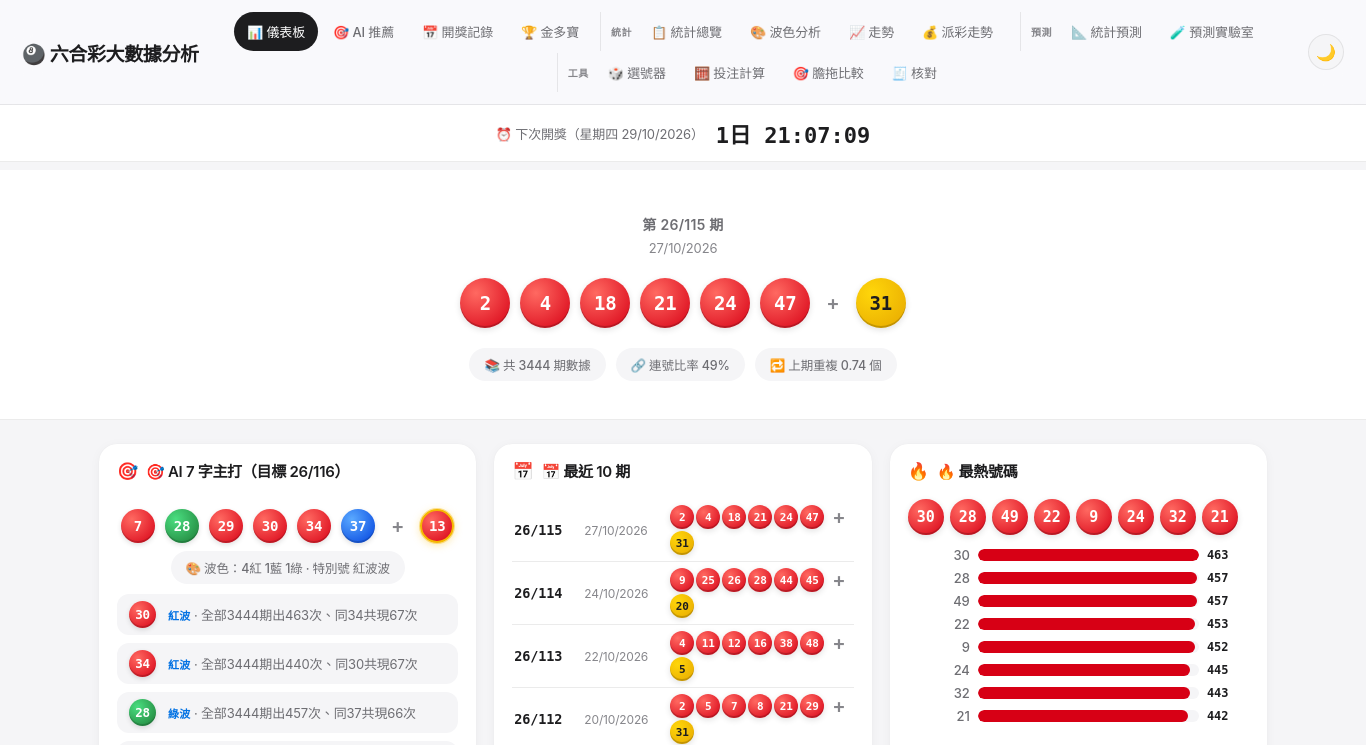
Test: 六合彩 App smoke › dashboard 7 字主打 → 去 AI 推薦按鈕
Click the heading "🎯 AI 7 字主打（目標 26/116）" at (248, 470), box [146,460,349,481]
(page scrolled)
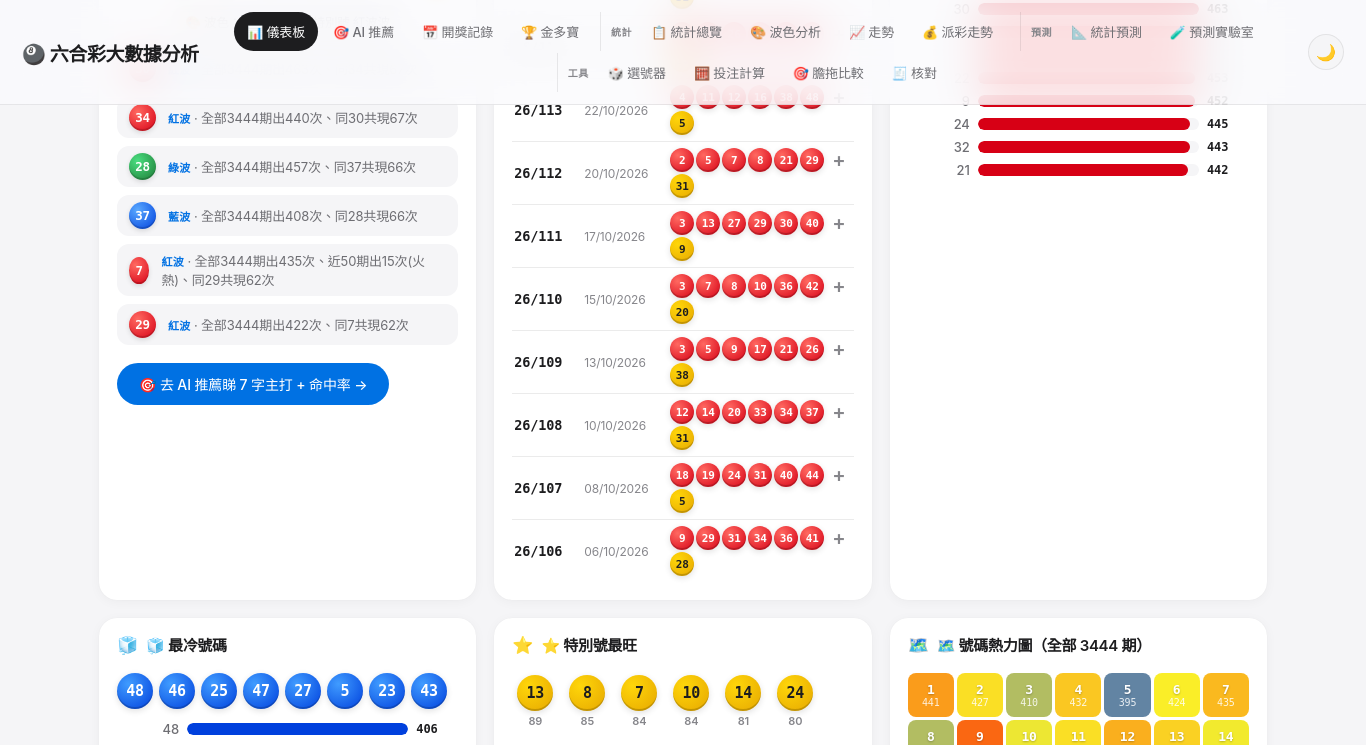
Click the button with class "gen-btn" at (253, 384), box [117,363,389,405]
(page scrolled)
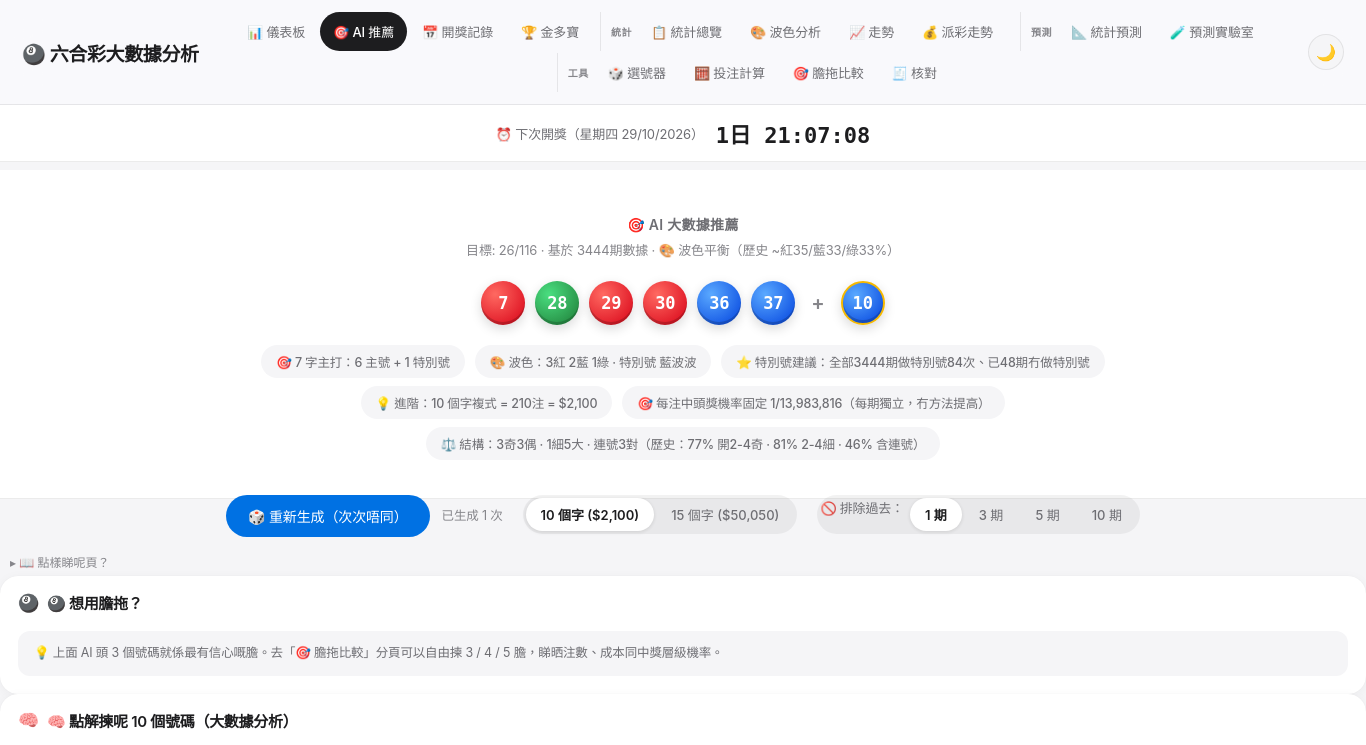
Expected: the text "🎯 AI 大數據推薦" is shown, [627,216,739,233]
